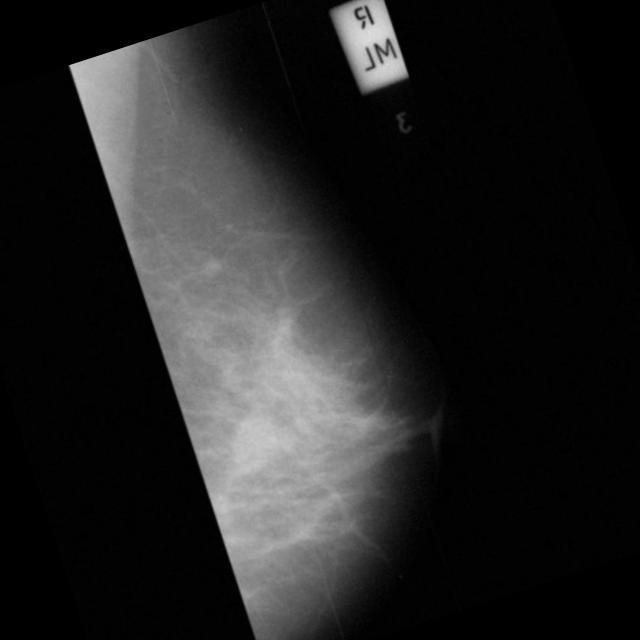ASYM: (217, 398, 295, 476)
